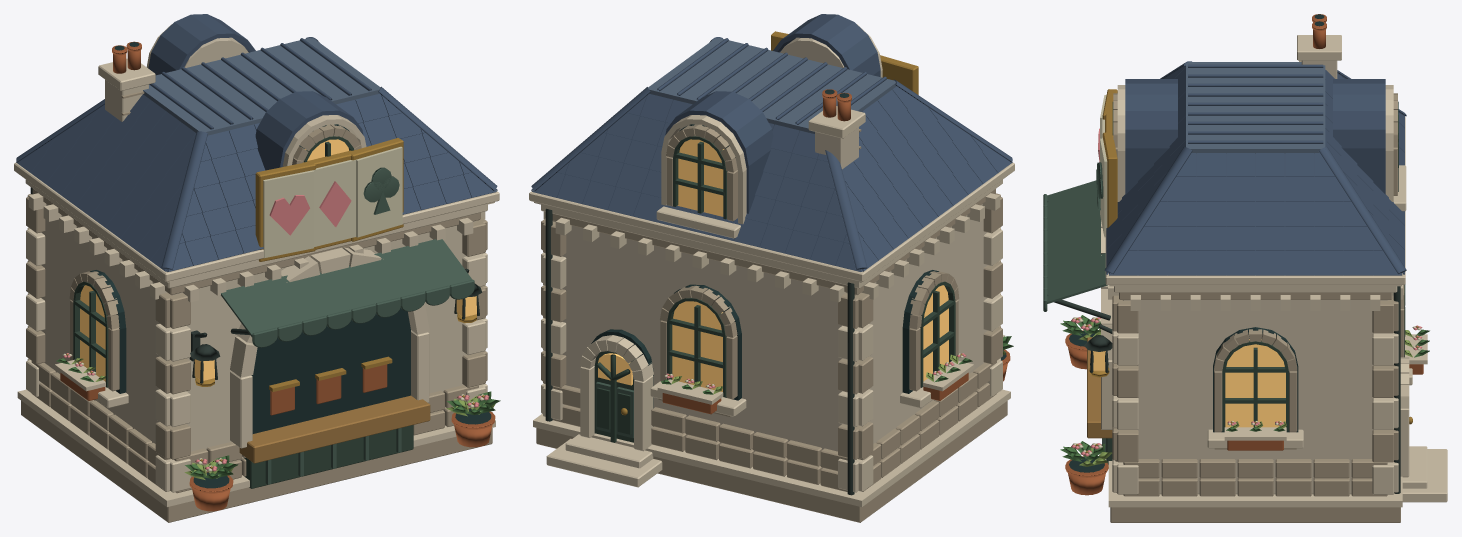
3 renders of one model, left to right at view 1: azimuth 30°, elevation 25°; view 2: azimuth 150°, elevation 25°; view 3: azimuth 270°, elevation 25°, orthographic.
Parts seen in each view (by area): view 1: classic_card_pavilion_geometry, classic_card_pavilion_geometry ceramic; view 2: classic_card_pavilion_geometry, classic_card_pavilion_geometry ceramic; view 3: classic_card_pavilion_geometry, classic_card_pavilion_geometry ceramic.
Part boxes in pixels (x1,y1,x2,y2): classic_card_pavilion_geometry: (14,24,500,522); classic_card_pavilion_geometry ceramic: (16,14,497,271); classic_card_pavilion_geometry: (529,24,1014,522); classic_card_pavilion_geometry ceramic: (531,14,1012,271); classic_card_pavilion_geometry: (1043,14,1447,522); classic_card_pavilion_geometry ceramic: (1104,61,1406,275).
Bounding box in the file's own units: 1.04 × 1.01 × 0.9768.
